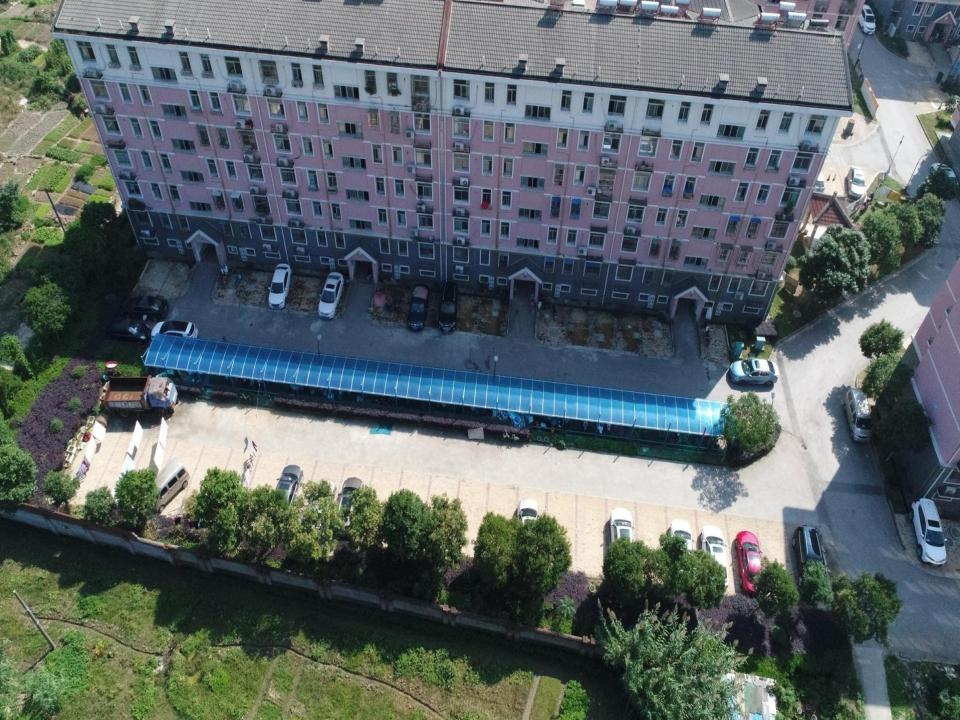car: (908, 498, 948, 567), (792, 525, 828, 590), (735, 530, 764, 595), (700, 525, 728, 592), (304, 477, 336, 532), (668, 520, 696, 578), (274, 464, 304, 518), (610, 508, 636, 570), (338, 477, 364, 536), (729, 357, 779, 387), (122, 295, 169, 323), (151, 319, 198, 347), (106, 317, 152, 345), (517, 497, 540, 552), (318, 271, 344, 319), (268, 263, 292, 309), (407, 283, 430, 329), (438, 281, 458, 333), (846, 166, 868, 200), (855, 4, 876, 35), (810, 160, 825, 194)
truck: (102, 374, 179, 417)
van: (146, 457, 190, 513), (843, 388, 873, 443)
